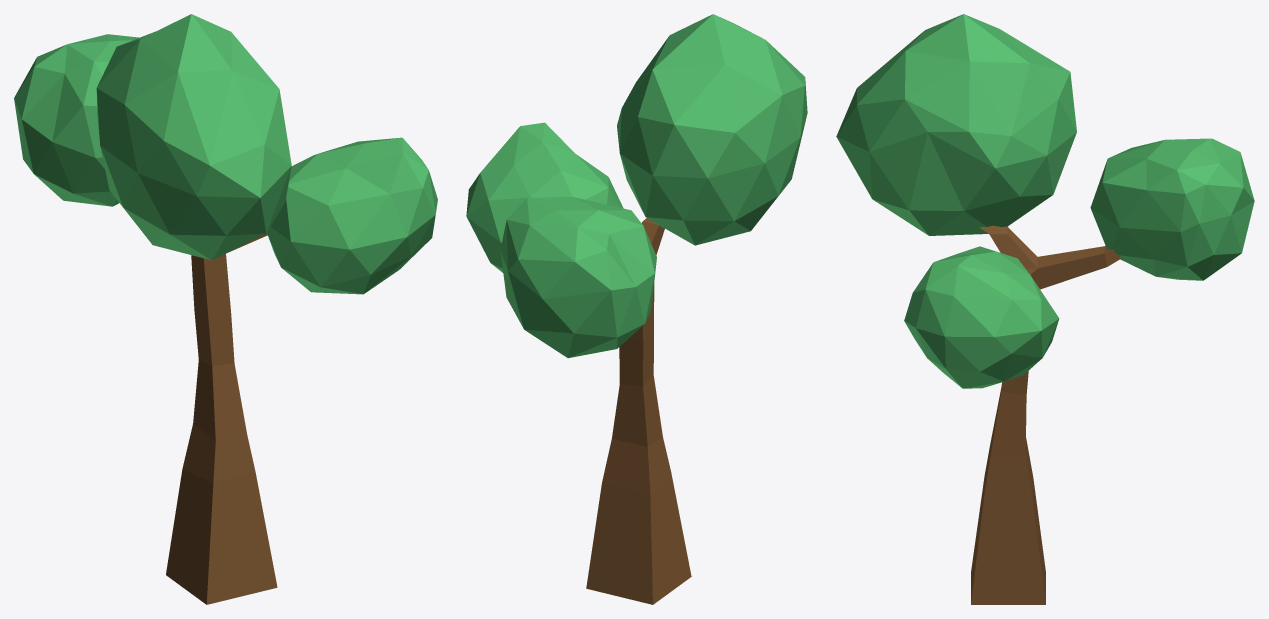
File: Tree00.glb
3 views of the same model, side by side, from view 1: azimuth 30°, elevation 25°; view 2: azimuth 150°, elevation 25°; view 3: azimuth 270°, elevation 25° (orthographic). The views are drawn at different scales.
Visible parts, largest first — view 1: Cube; view 2: Cube; view 3: Cube.
Boxes of the visible parts, left/top/right/bottom form: Cube: left=14, top=14, right=437, bottom=604; Cube: left=466, top=14, right=807, bottom=604; Cube: left=836, top=14, right=1254, bottom=604.
Size of the model in its own units: 1.14 by 2.07 by 1.42.
